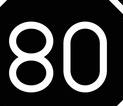Speed Limit -80-: (0, 1, 122, 105)
